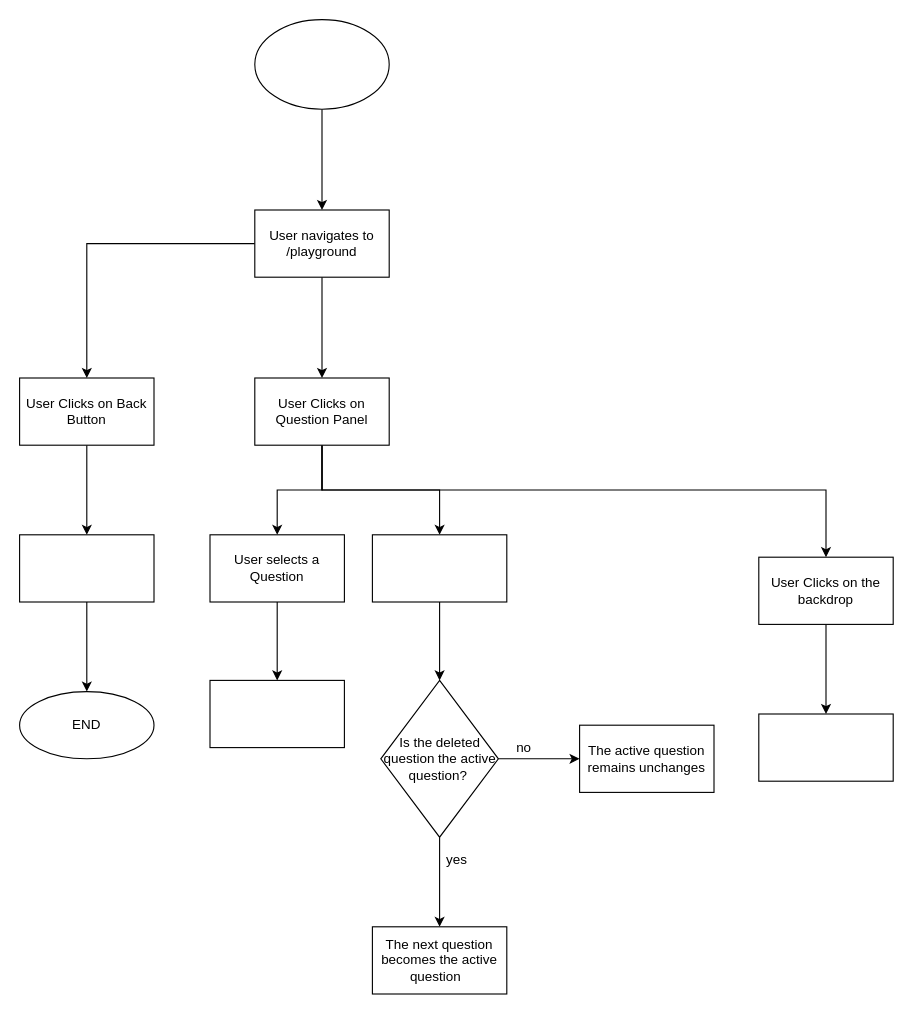
This 913x1014 diagram has some shape labels left out. Each missing label, with the centre of its shape:
"START" goes at pixel 321 63.
"The question panel collapses" goes at pixel 825 747.
"The selected question is rendered in Question Section" goes at pixel 276 713.
"User deletes a Question" goes at pixel 439 568.
"User is redirected to /lessons page" goes at pixel 86 568.
